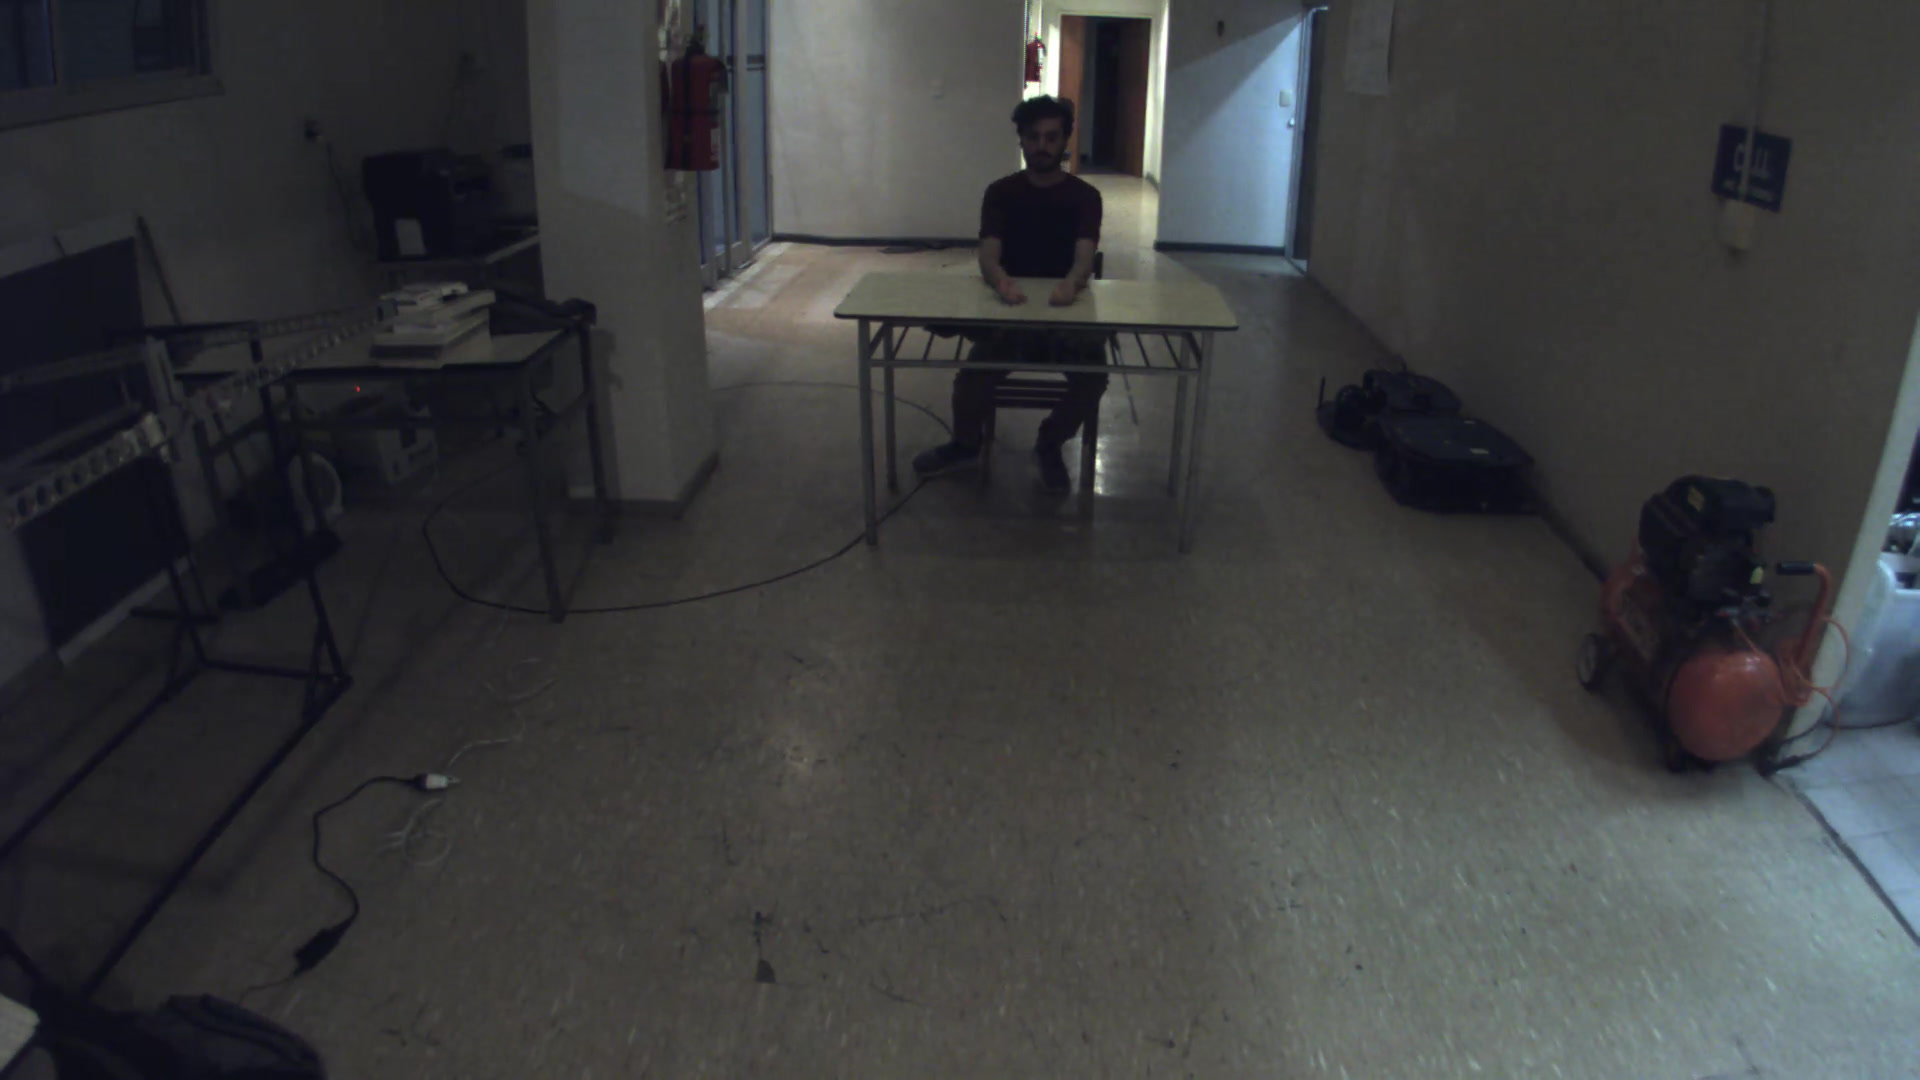hand: (1042, 270, 1091, 316), (993, 266, 1029, 310)
